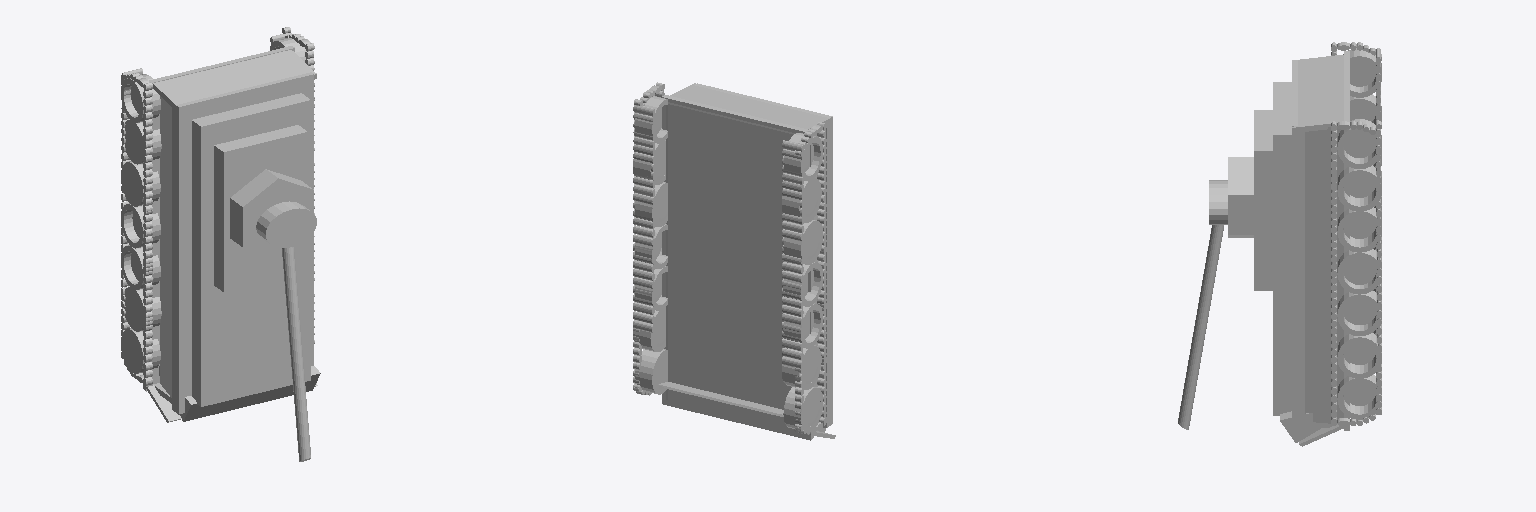
Rendered from tanky_picture.obj.
3 renders of one model, left to right at view 1: azimuth 30°, elevation 25°; view 2: azimuth 150°, elevation 25°; view 3: azimuth 270°, elevation 25°, orthographic.
Visible parts, largest first — view 1: obj_0; view 2: obj_0; view 3: obj_0.
Part boxes in pixels (bbox=[...]): obj_0: bbox=[121, 27, 320, 461]; obj_0: bbox=[633, 82, 835, 440]; obj_0: bbox=[1178, 42, 1381, 446].
Size of the model in its own units: 77 by 151 by 81.